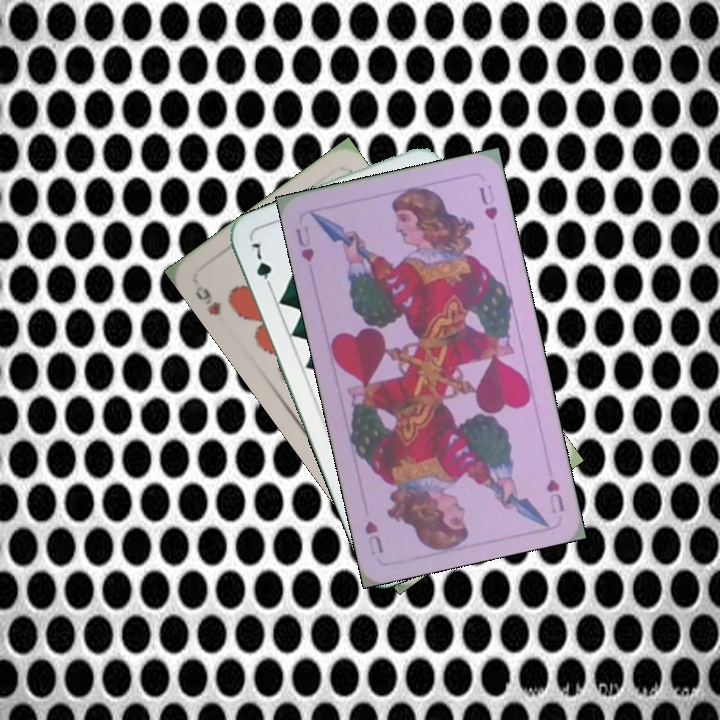G7: (247, 236, 276, 294)
H9: (191, 281, 225, 319)
HU: (291, 222, 317, 264), (542, 474, 567, 516)
